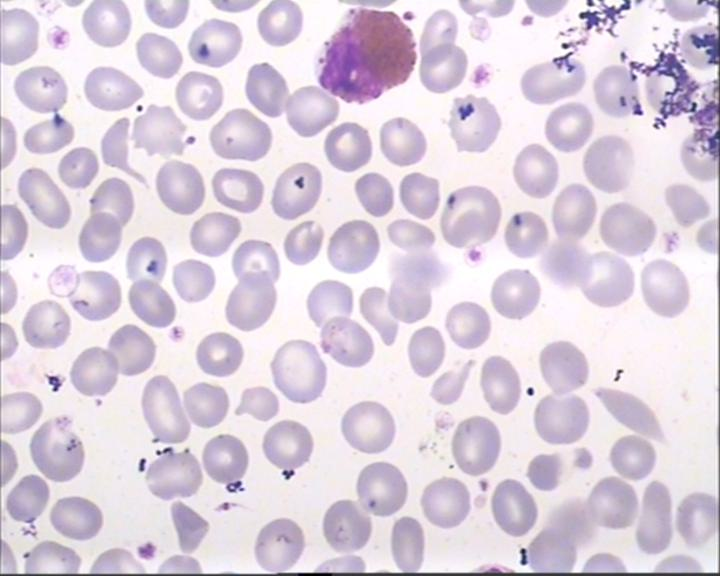eosi: (314, 8, 420, 107)
